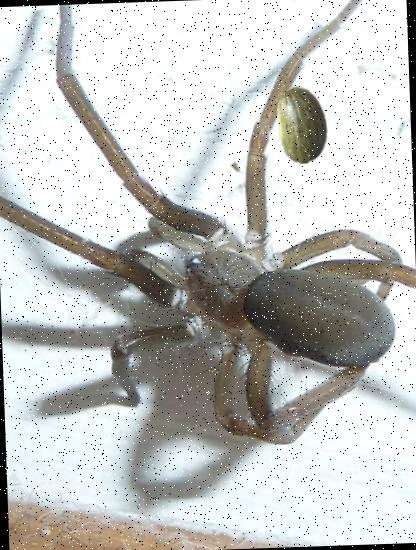Melon: (262, 84, 342, 165)
